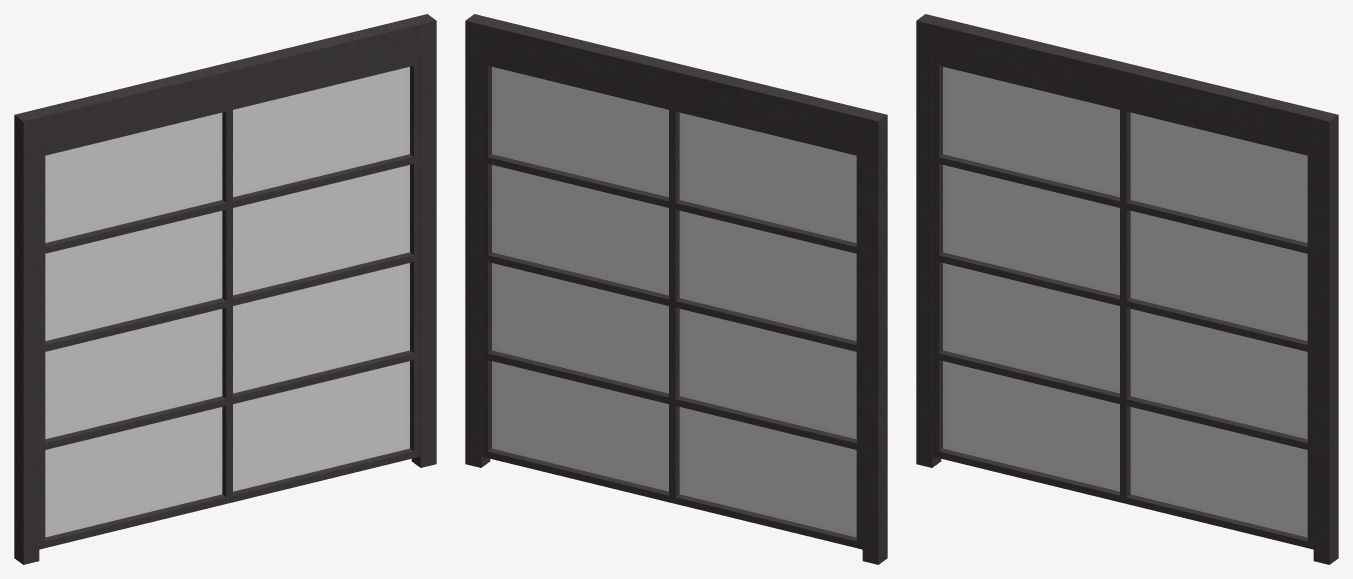
Rendered from es-polycaB_h2000_kakicha.fbx.
3 views of the same model, side by side, from view 1: azimuth 30°, elevation 25°; view 2: azimuth 150°, elevation 25°; view 3: azimuth 330°, elevation 25° (orthographic).
Visible parts, largest first — view 1: es-polycaB_h2000_kakicha; view 2: es-polycaB_h2000_kakicha; view 3: es-polycaB_h2000_kakicha.
Part boxes in pixels (<box>): es-polycaB_h2000_kakicha: <box>14,14,436,564</box>; es-polycaB_h2000_kakicha: <box>465,14,887,564</box>; es-polycaB_h2000_kakicha: <box>916,14,1338,564</box>.
Bounding box in the file's own units: 195 × 200 × 7.5.
Materials: 3 (2 with a texture image).
